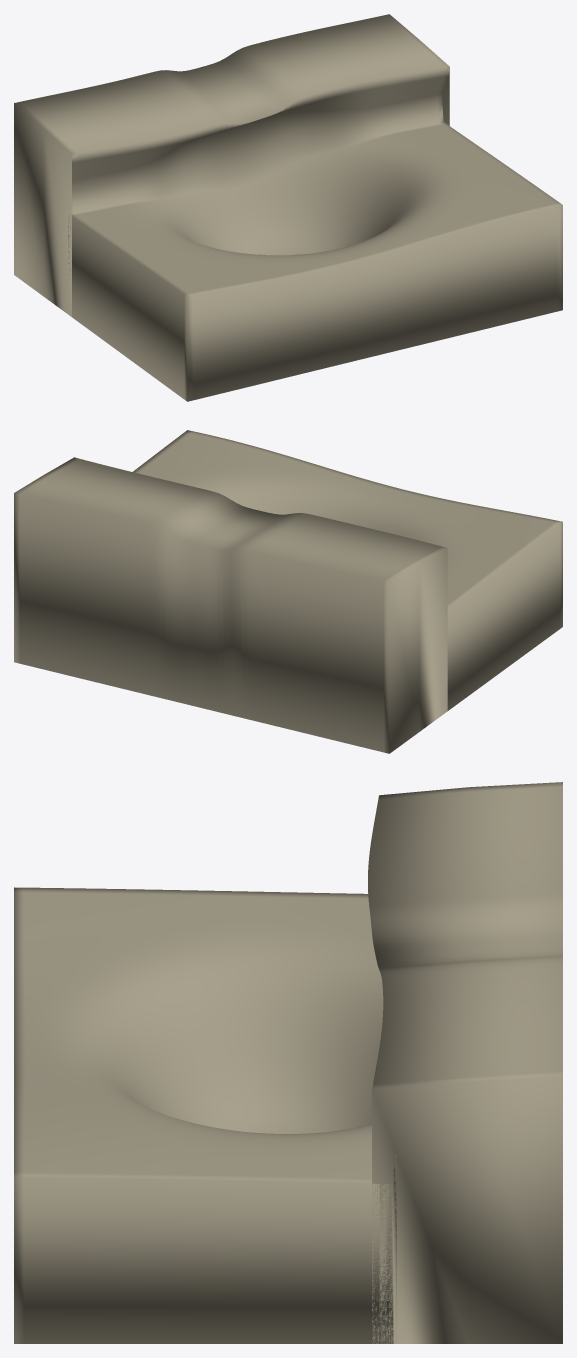
File: waterfall-plunge-pool.glb
3 views of the same model, one above another, from view 1: azimuth 30°, elevation 25°; view 2: azimuth 150°, elevation 25°; view 3: azimuth 270°, elevation 25° (orthographic). The views are drawn at different scales.
Parts seen in each view (by area): view 1: connected-deep-plunge-basin-undercut-rockstep-and-upstream-b; view 2: connected-deep-plunge-basin-undercut-rockstep-and-upstream-b; view 3: connected-deep-plunge-basin-undercut-rockstep-and-upstream-b.
Part boxes in pixels (x1,y1,x2,y2): connected-deep-plunge-basin-undercut-rockstep-and-upstream-b: (14,14,562,401); connected-deep-plunge-basin-undercut-rockstep-and-upstream-b: (14,430,562,753); connected-deep-plunge-basin-undercut-rockstep-and-upstream-b: (14,782,562,1343).
Size of the model in its own units: 8 by 3.5 by 6.4.
